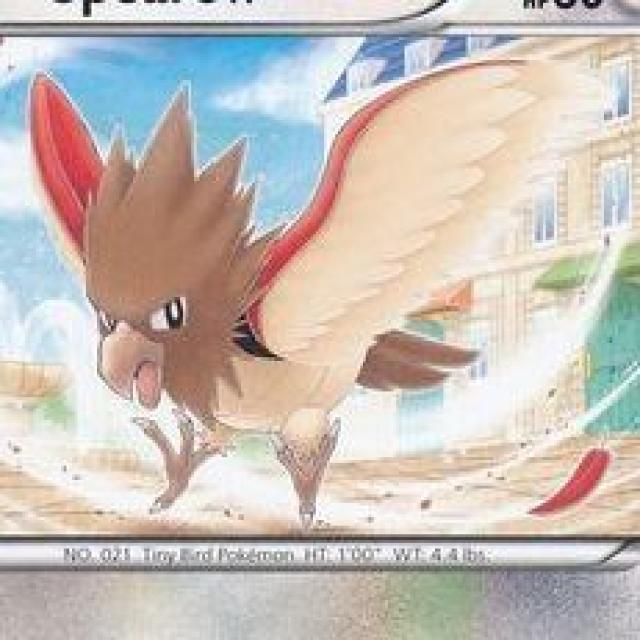Spearow: (68, 69, 468, 502)
